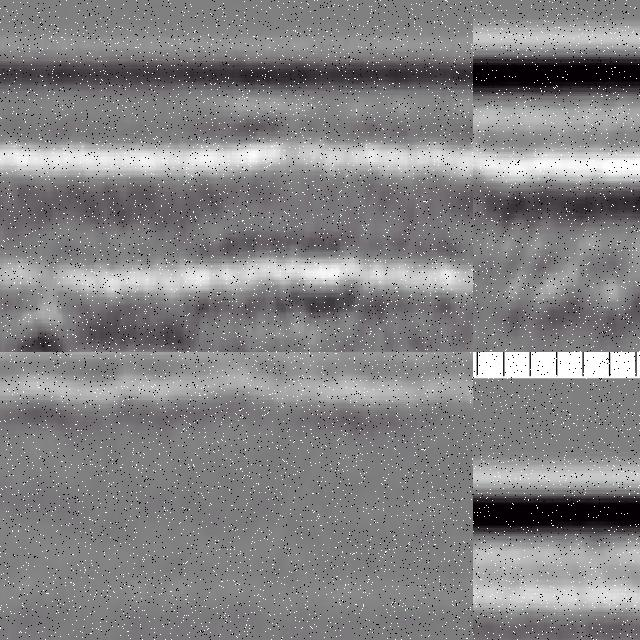loose: (474, 177, 640, 334)
